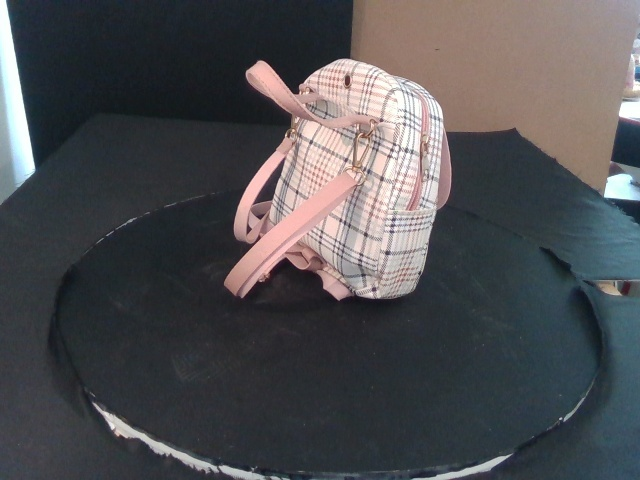bag: (269, 58, 452, 301)
